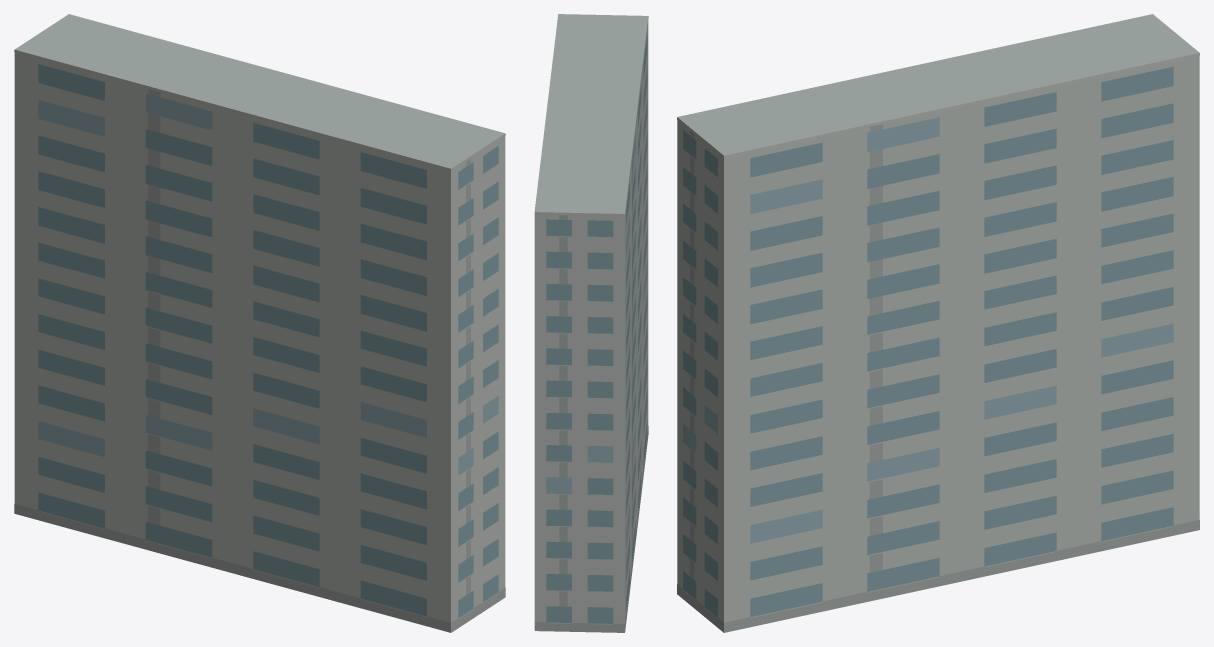
File: residential-b259513f-2242-429c-aed0-e6b16d184017.glb
3 views of the same model, side by side, from view 1: azimuth 30°, elevation 25°; view 2: azimuth 150°, elevation 25°; view 3: azimuth 270°, elevation 25° (orthographic). The views are drawn at different scales.
Visible parts, largest first — view 1: residential-b259513f-2242-429c-aed0-e6b16d184017.tmp; view 2: residential-b259513f-2242-429c-aed0-e6b16d184017.tmp; view 3: residential-b259513f-2242-429c-aed0-e6b16d184017.tmp.
Boxes of the visible parts, box(x1,y1,x2,y2) form: residential-b259513f-2242-429c-aed0-e6b16d184017.tmp: box(14, 14, 505, 632); residential-b259513f-2242-429c-aed0-e6b16d184017.tmp: box(534, 14, 648, 632); residential-b259513f-2242-429c-aed0-e6b16d184017.tmp: box(677, 14, 1199, 632).
Size of the model in its own units: 26.76 by 42 by 41.7.
